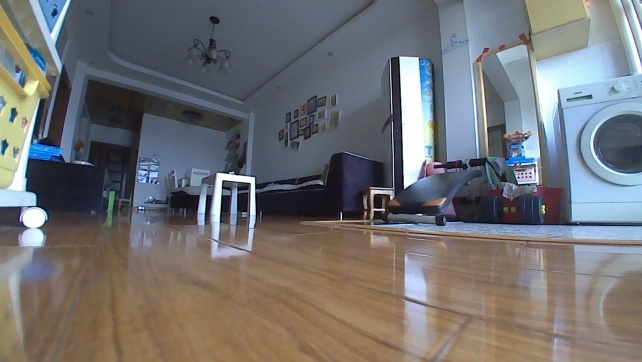TV_stand1: (24, 155, 114, 215)
door: (85, 138, 133, 210)
sofa: (166, 148, 386, 221)
washing_machine: (549, 70, 641, 226)
